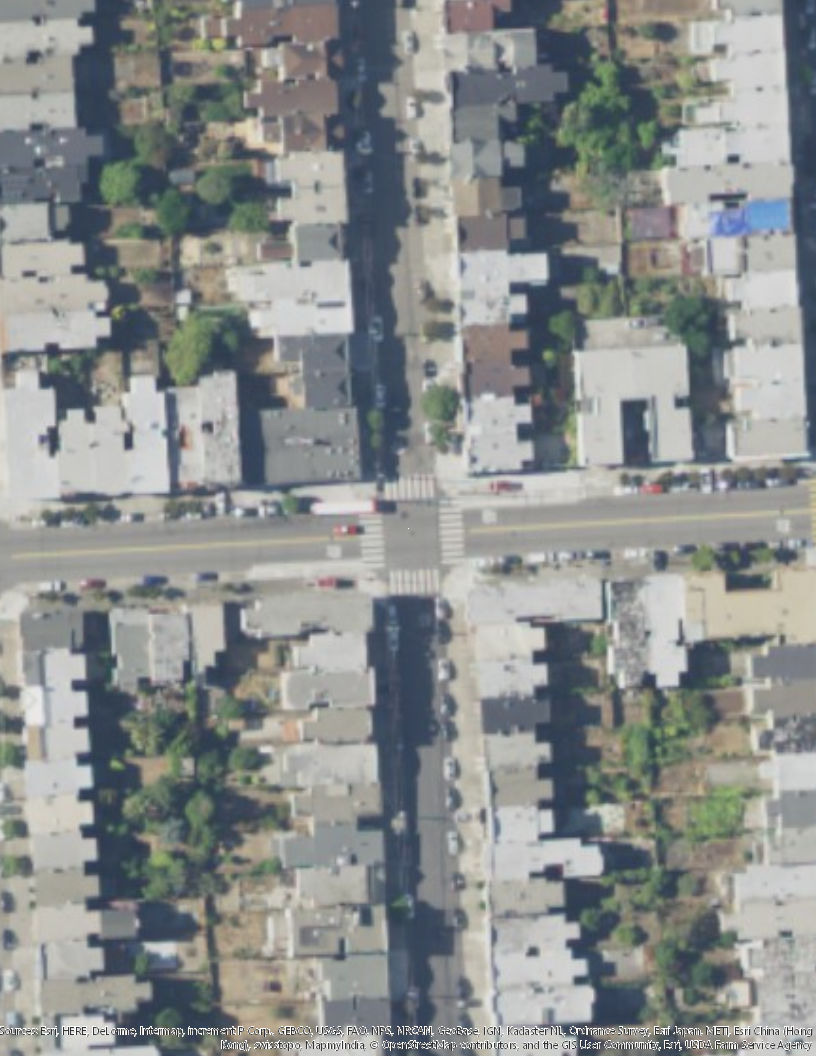zebracross: (437, 502, 466, 565), (385, 473, 438, 503), (360, 511, 386, 571), (390, 567, 443, 596)
